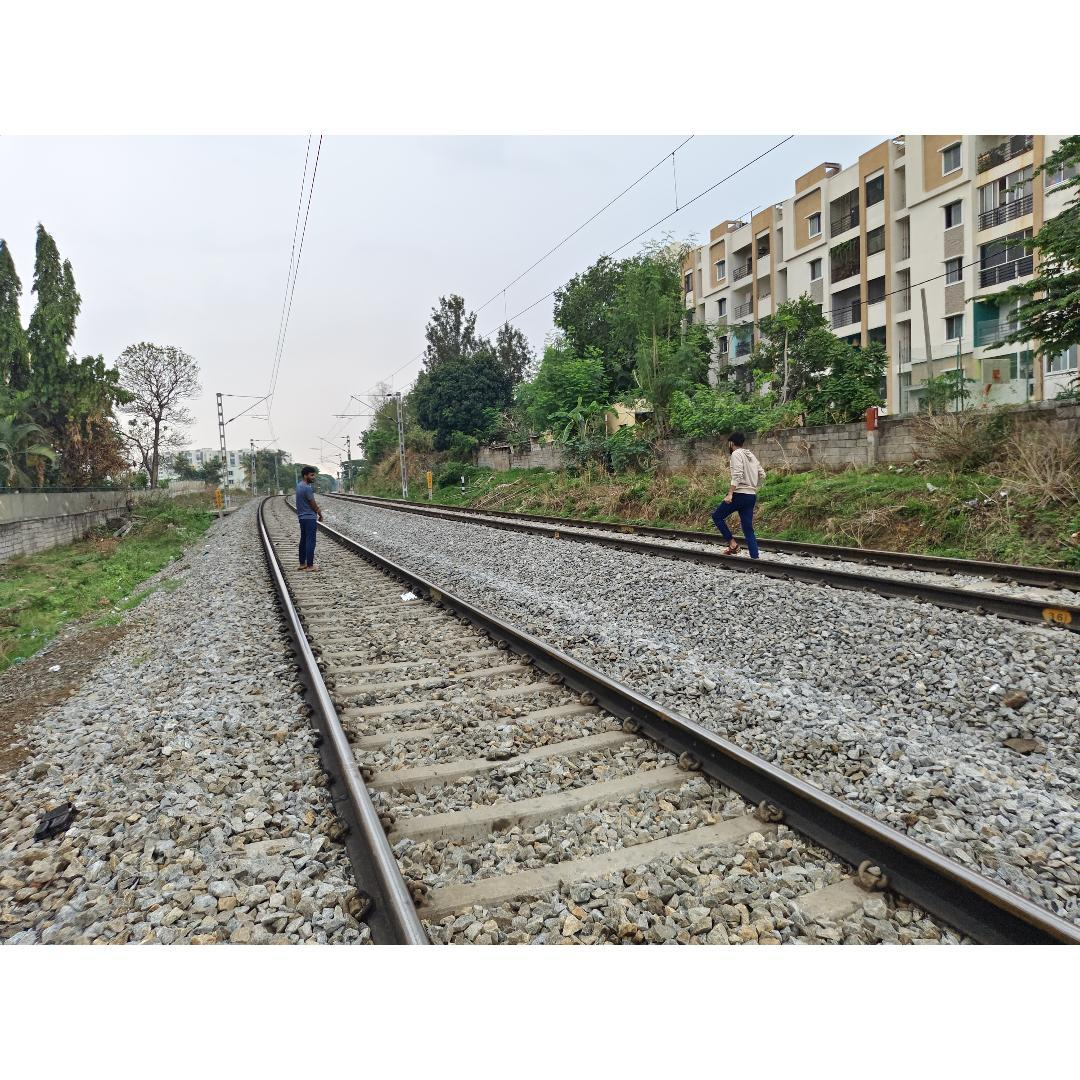standing: (711, 431, 766, 559), (294, 465, 324, 571)
track: (245, 487, 1080, 945), (323, 490, 1080, 640)
